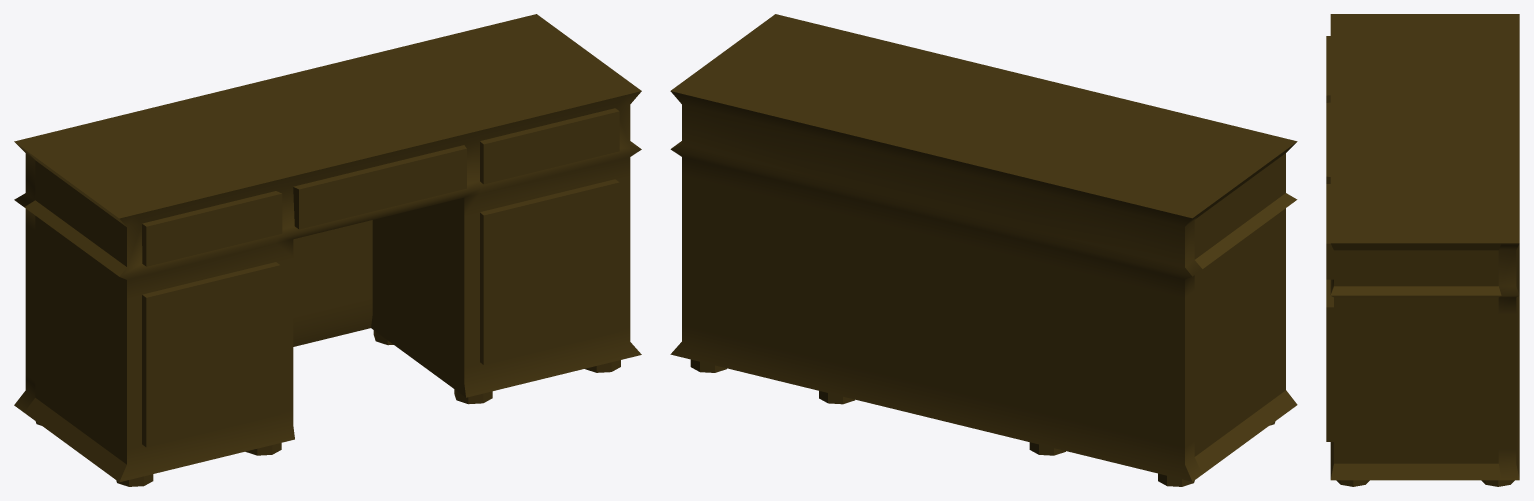
File: DD_6_teacherDesk_HENRY.fbx
3 views of the same model, side by side, from view 1: azimuth 30°, elevation 25°; view 2: azimuth 150°, elevation 25°; view 3: azimuth 270°, elevation 25° (orthographic). The views are drawn at different scales.
Visible parts, largest first — view 1: DD_6_teacherDesk; view 2: DD_6_teacherDesk; view 3: DD_6_teacherDesk.
Part boxes in pixels (x1,y1,x2,y2): DD_6_teacherDesk: (14, 14, 641, 486); DD_6_teacherDesk: (670, 14, 1297, 486); DD_6_teacherDesk: (1326, 14, 1519, 486).
Size of the model in its own units: 14.01 by 7.08 by 5.
